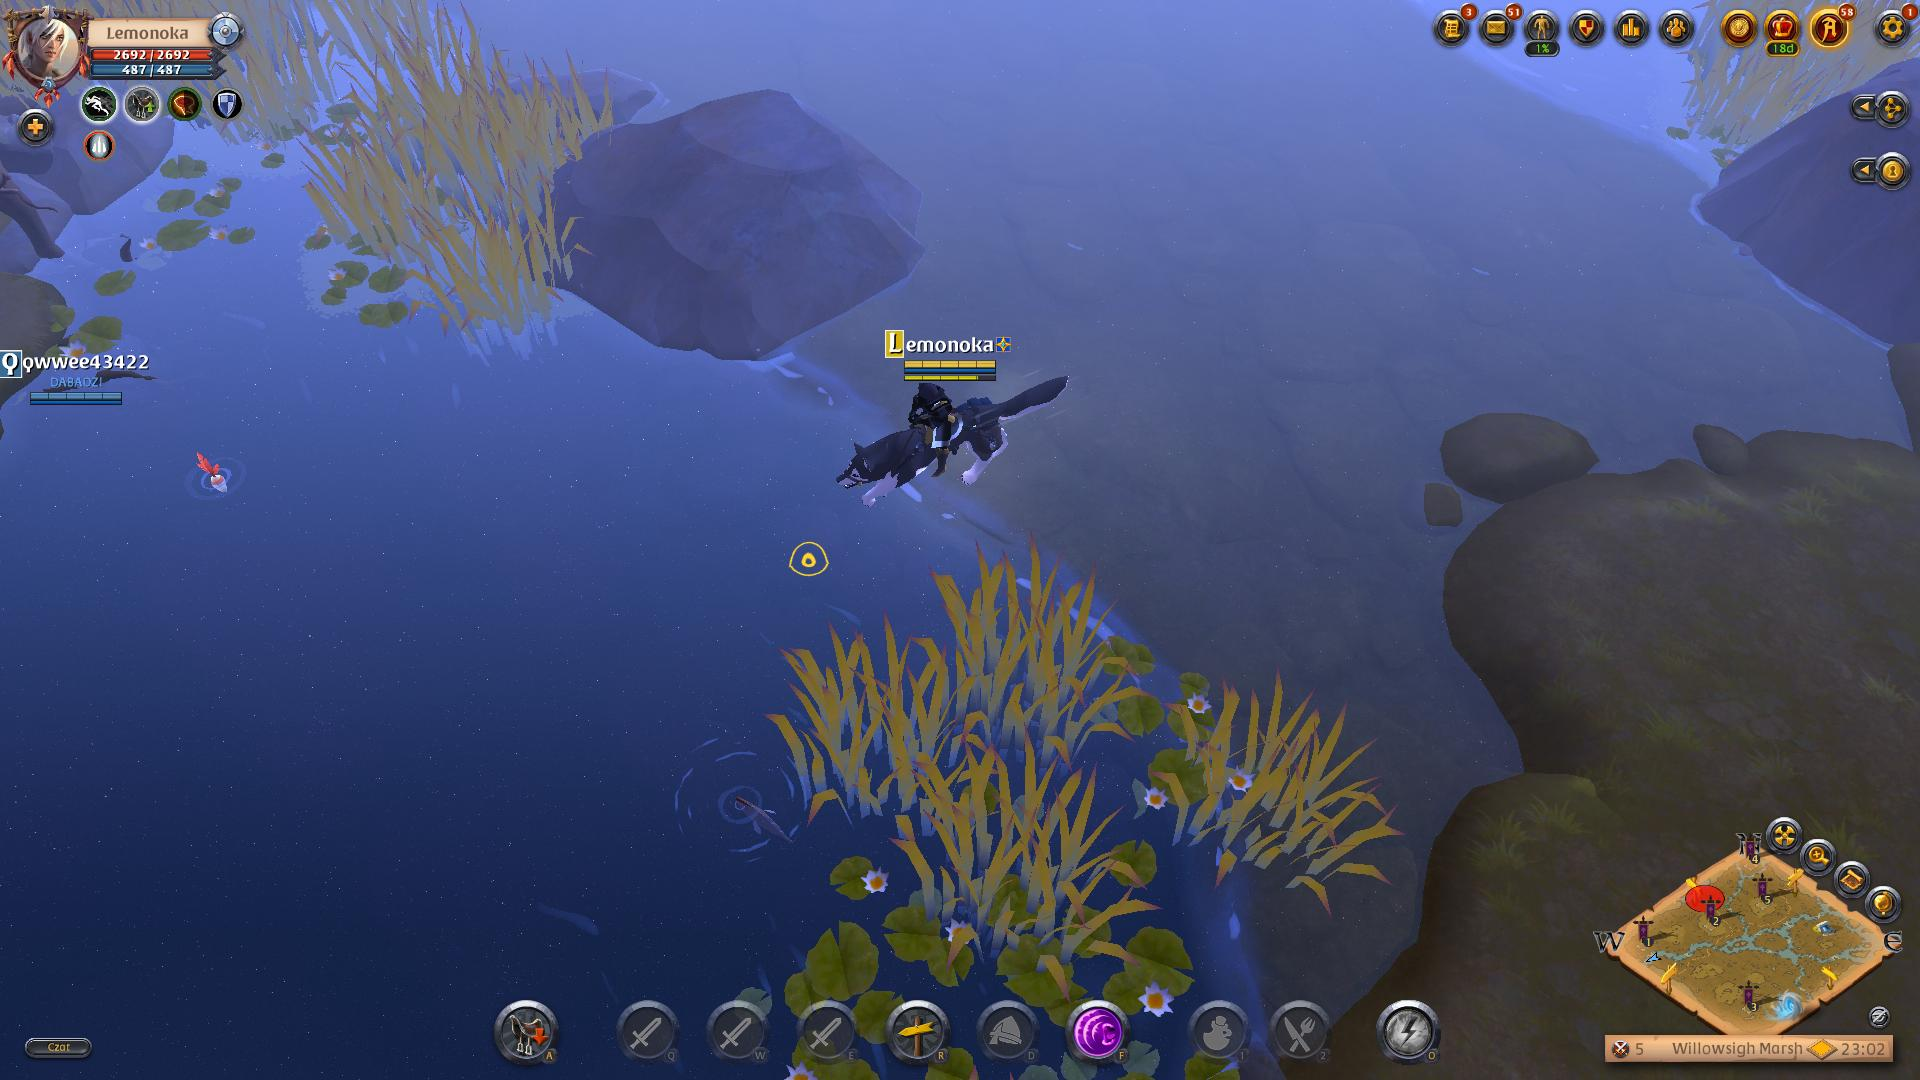fish: (661, 721, 814, 866)
